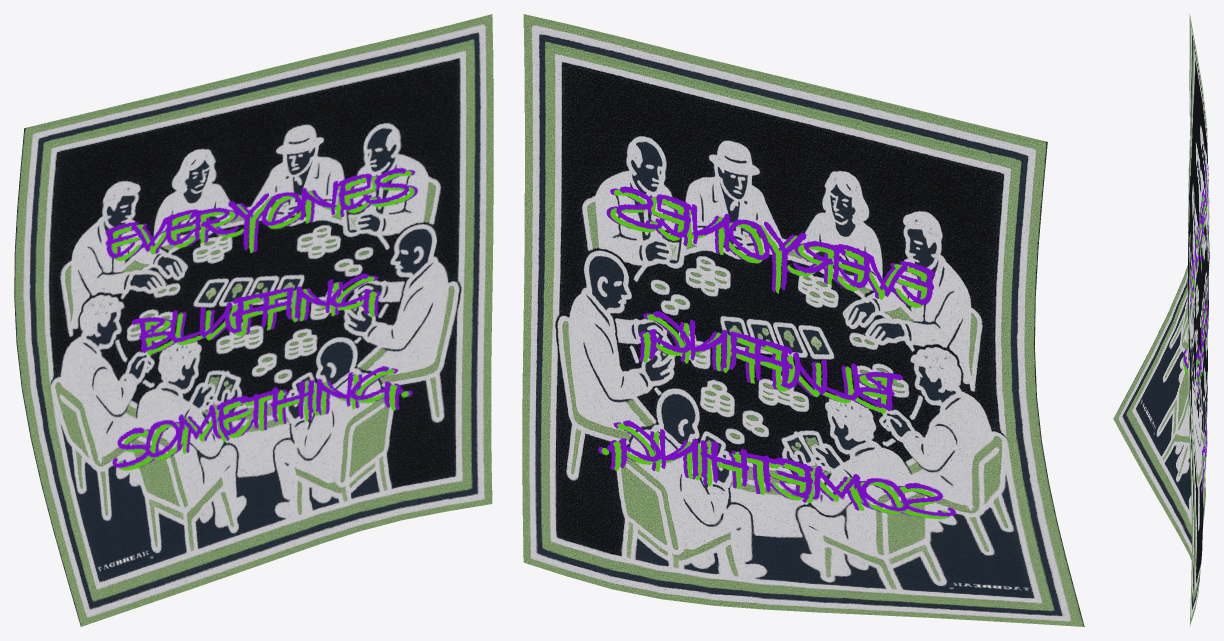
Rendered from High_Stakes_.glb.
The picture shows the model from 3 angles, left to right: view 1: azimuth 30°, elevation 25°; view 2: azimuth 150°, elevation 25°; view 3: azimuth 270°, elevation 25°; orthographic projection. The views are drawn at different scales.
Parts seen in each view (by area): view 1: Plane; view 2: Plane; view 3: Plane.
Part boxes in pixels (<box>): Plane: <box>14,14,493,626</box>; Plane: <box>522,14,1084,626</box>; Plane: <box>1113,14,1209,626</box>.
Size of the model in its own units: 2 by 2 by 0.4172.
1 material, 1 textured.
